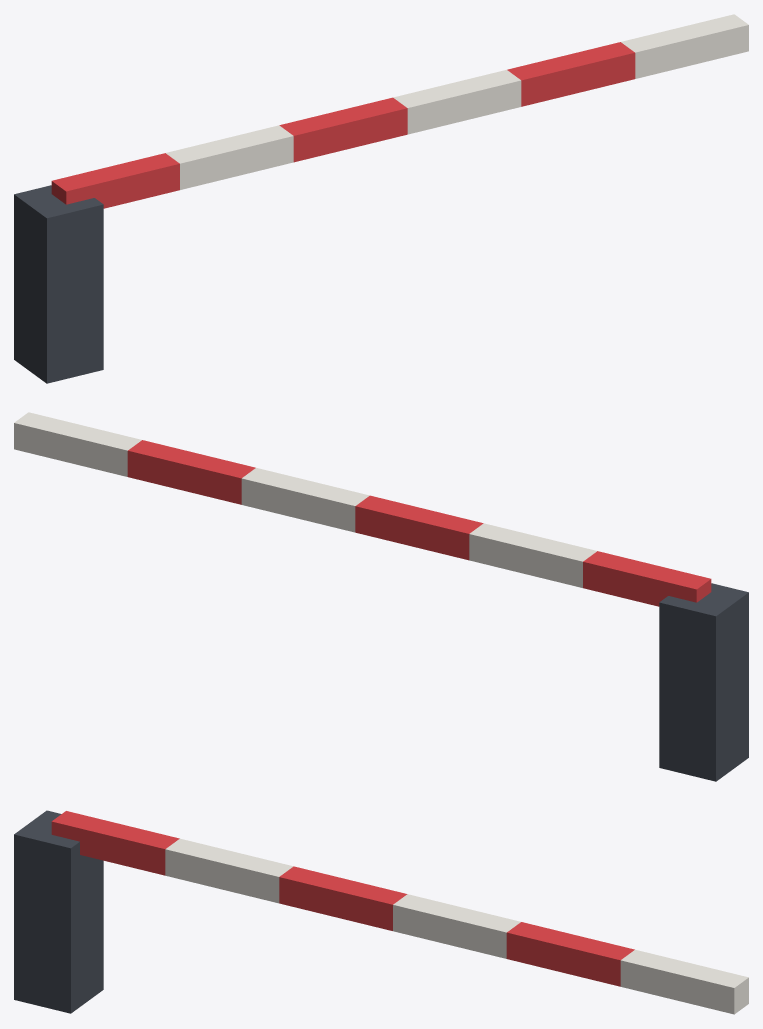
Rendered from checkpoint_arm.glb.
3 renders of one model, top to bottom at view 1: azimuth 30°, elevation 25°; view 2: azimuth 150°, elevation 25°; view 3: azimuth 330°, elevation 25°, orthographic.
Parts seen in each view (by area): view 1: checkpoint_arm; view 2: checkpoint_arm; view 3: checkpoint_arm.
Boxes of the visible parts, x1,y1,x2,y2 form: checkpoint_arm: (14,14,748,383); checkpoint_arm: (14,412,748,781); checkpoint_arm: (14,810,748,1014).
Bounding box in the file's own units: 2.25 × 0.54 × 0.18.
1 material, 1 textured.
